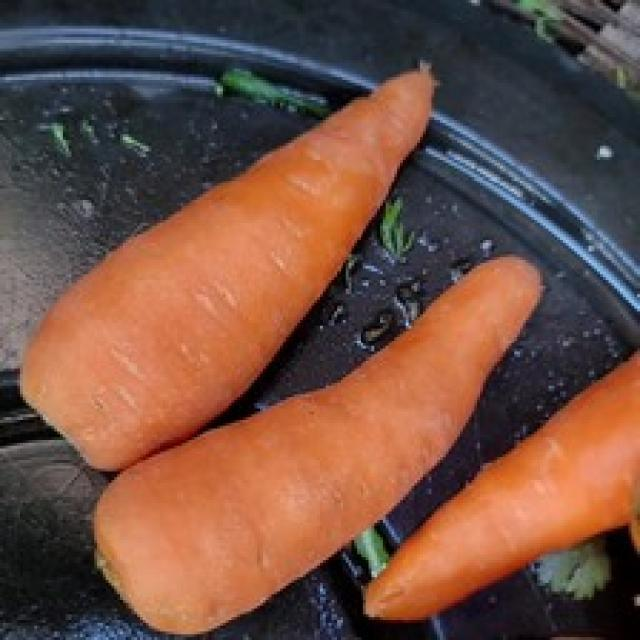carrot: (91, 246, 543, 634), (24, 63, 434, 460), (363, 346, 639, 620)
